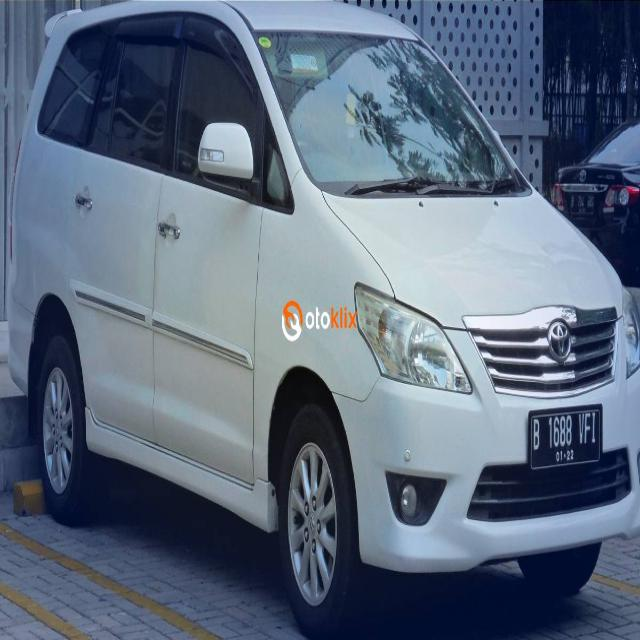light_vehicle: (3, 0, 640, 631)
